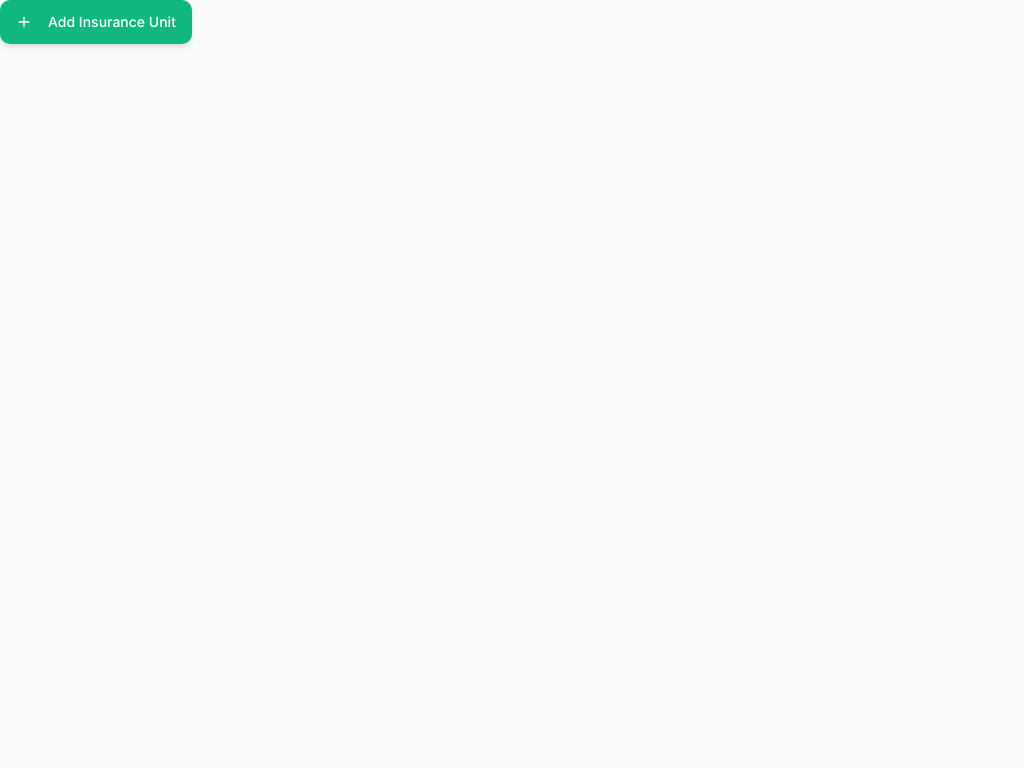
Test case: CreateInsuranceUnitDialog › offers the hidden markets to a platform admin, with their own labels and no livestock terms
The image size is (1024, 768).
Click the button "Add Insurance Unit" at (96, 22), box [0, 0, 192, 44]
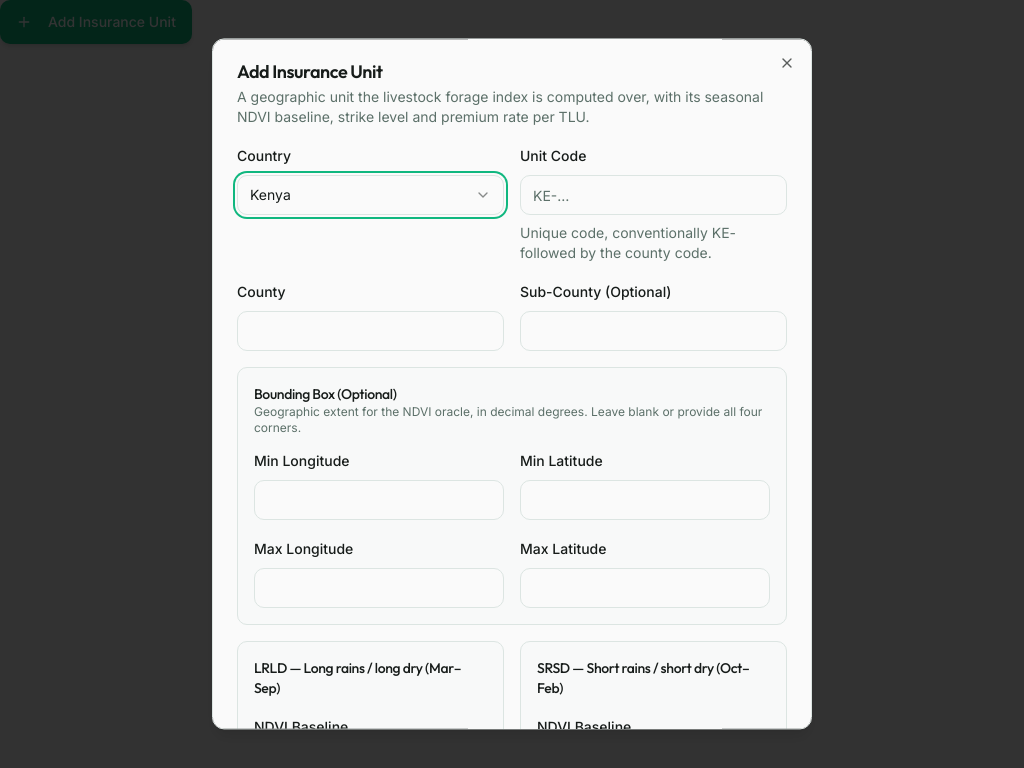
Click the dropdown named "Country" at (270, 195), box [237, 175, 504, 215]
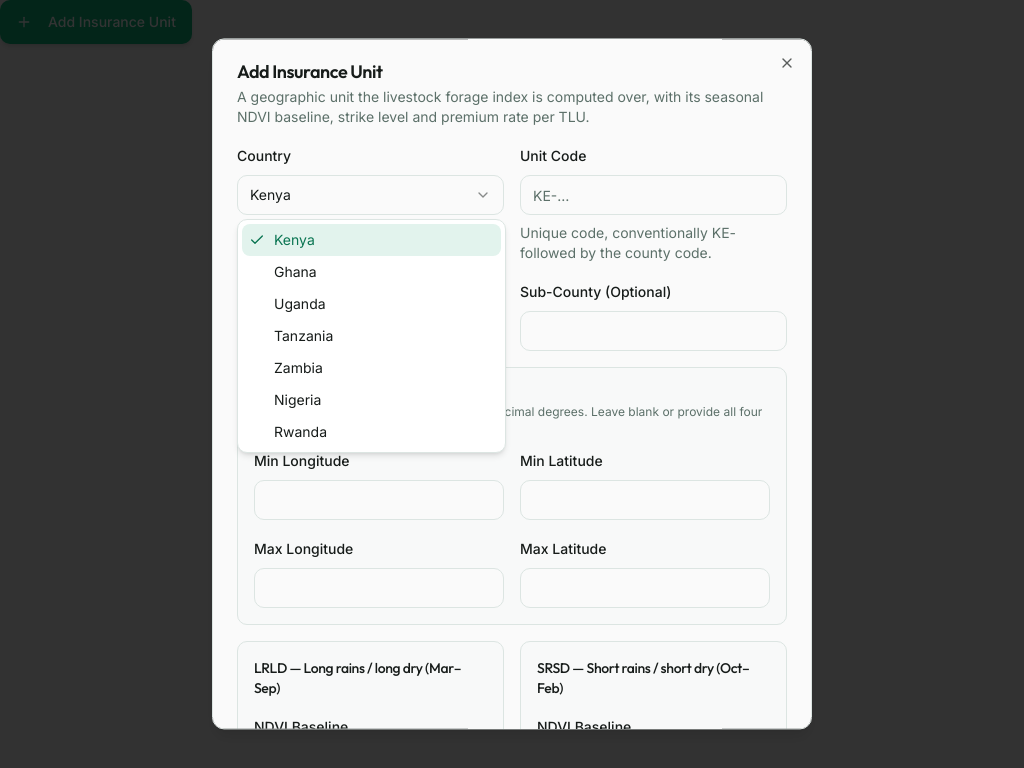
Click the option "Uganda" at (300, 304), box [274, 295, 326, 312]
(page scrolled)
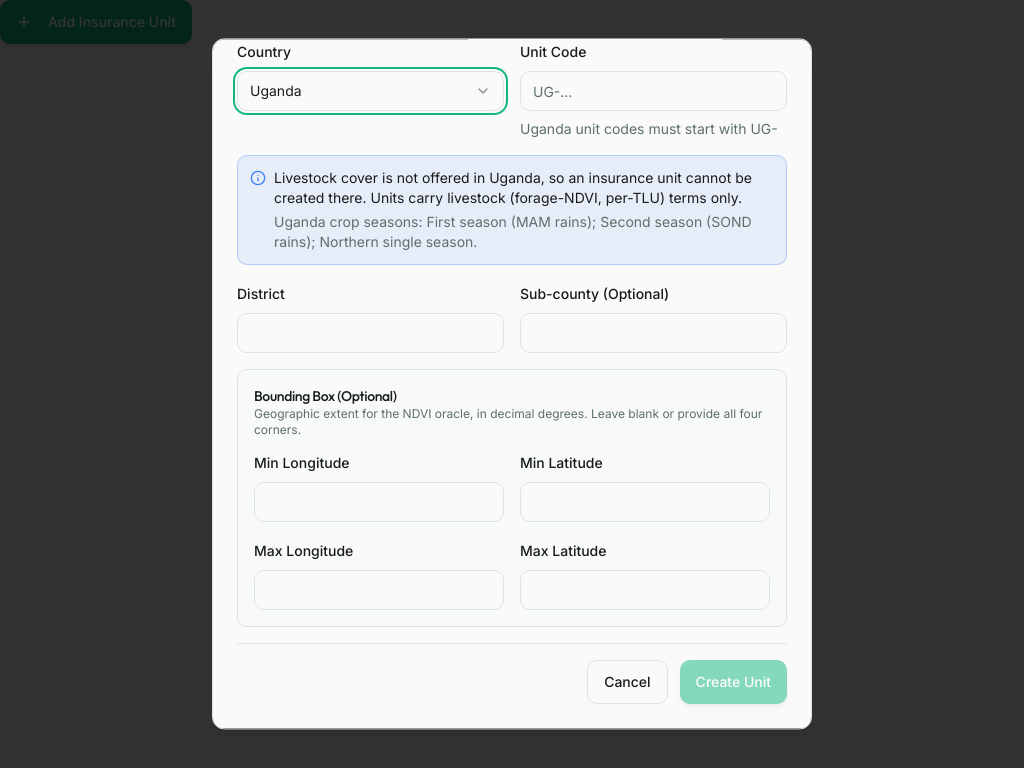
Result: the text "Livestock cover is not offered in Uganda" is shown at [274, 168, 774, 208]
Result: the text "Uganda crop seasons: First season (MAM rains)" is shown at [274, 212, 774, 252]
Result: the text "Uganda unit codes must start with UG-" is shown at [520, 119, 787, 139]
